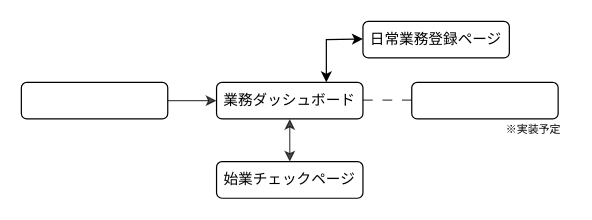
The diagram is 592 pixels wide and 220 high, and some of its shapes have lost their labels. The centre of each missing label's shape, as x and y in pixels:
"サインイン" belongs at point (94, 100).
"編集ページ" belongs at point (484, 100).
